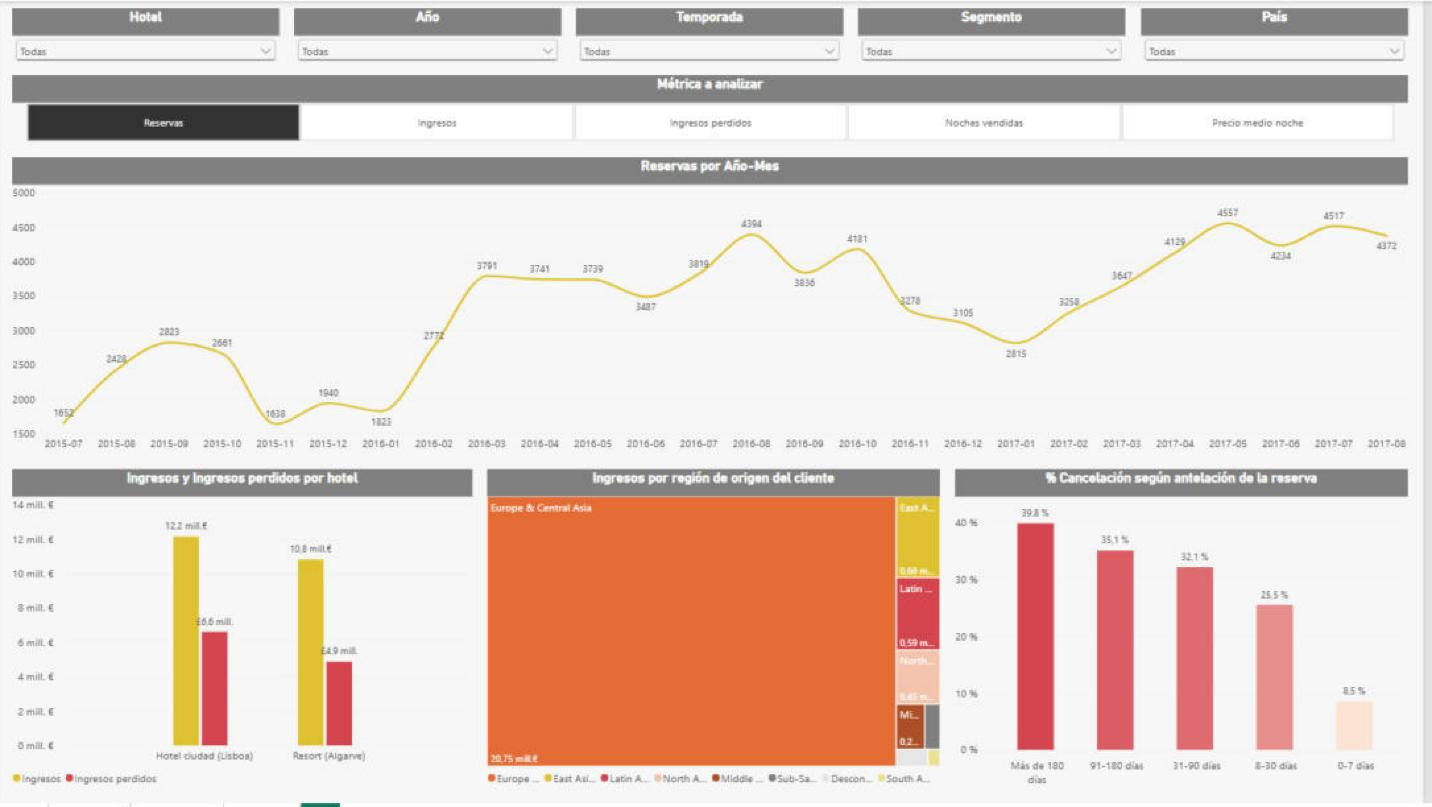

What the dashboard file says about the page in this screenshot:
{"tool":"powerbi","page":{"name":"Análisis","canvas":[1920,1080],"ordinal":1},"visuals":[{"type":"slicer","title":"Hotel","fields":{"Values":["Hoteles.hotel"]},"box":[20,10,360,80],"z":0},{"type":"slicer","title":"Año","fields":{"Values":["Calendario.Año"]},"box":[400,10,360,80],"z":1000},{"type":"slicer","title":"País","fields":{"Values":["Paises.pais"]},"box":[1540,10,360,80],"z":2000},{"type":"slicer","title":"Temporada","fields":{"Values":["Reservas.temporada"]},"box":[780,10,360,80],"z":3000},{"type":"slicer","title":"Segmento","fields":{"Values":["Reservas.segmento_mercado"]},"box":[1160,10,360,80],"z":4000},{"type":"slicer","title":"Métrica a analizar\t","fields":{"Values":["Selector de métrica.Selector de métrica"]},"box":[20,100,1880,90],"z":5000},{"type":"lineChart","fields":{"Category":["Calendario.Año-Mes"],"Y":["_Medidas.Reservas"]},"box":[20,210,1880,400],"z":6000},{"type":"clusteredColumnChart","fields":{"Category":["Hoteles.hotel"],"Y":["_Medidas.Ingresos","_Medidas.Ingresos perdidos"]},"box":[20,630,620,430],"z":7000},{"type":"treemap","title":"Ingresos por región de origen del cliente\t","fields":{"Group":["Paises.region_mundial"],"Values":["_Medidas.Ingresos"]},"box":[660,630,610,430],"z":8000},{"type":"clusteredColumnChart","title":"% Cancelación según antelación de la reserva\t","fields":{"Category":["Reservas.grupo_antelacion"],"Y":["_Medidas.% Cancelación"]},"box":[1290,630,610,430],"z":9000}]}

Visuals, with their boxes in screenshot pixels (x1, y1, x2, y2), scaled from the page's 1920x1080 canvas onto the 1432x807 screenshot:
"Hotel" slicer: locate(15, 7, 283, 67)
"Año" slicer: locate(298, 7, 567, 67)
"País" slicer: locate(1149, 7, 1417, 67)
"Temporada" slicer: locate(582, 7, 850, 67)
"Segmento" slicer: locate(865, 7, 1134, 67)
"Métrica a analizar	" slicer: locate(15, 75, 1417, 142)
lineChart - Calendario.Año-Mes x _Medidas.Reservas: locate(15, 157, 1417, 456)
clusteredColumnChart - Hoteles.hotel x _Medidas.Ingresos: locate(15, 471, 477, 792)
"Ingresos por región de origen del cliente	" treemap: locate(492, 471, 947, 792)
"% Cancelación según antelación de la reserva	" clusteredColumnChart: locate(962, 471, 1417, 792)
